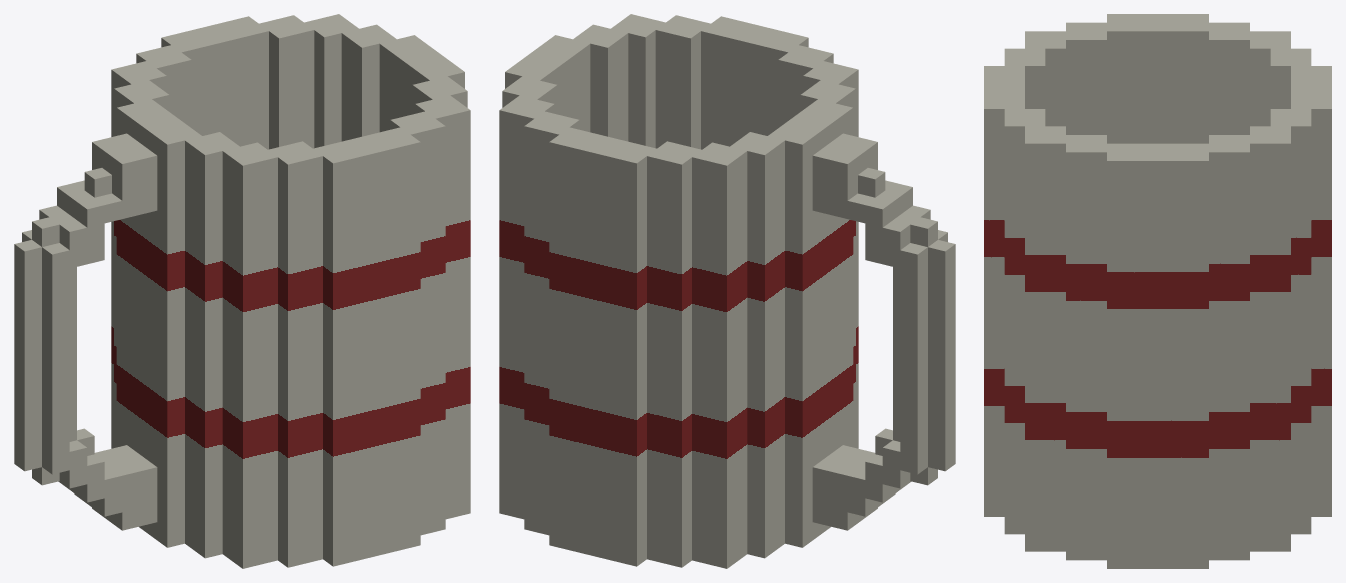
Rendered from kubek.dae.
3 views of the same model, side by side, from view 1: azimuth 30°, elevation 25°; view 2: azimuth 150°, elevation 25°; view 3: azimuth 270°, elevation 25° (orthographic).
Visible parts, largest first — view 1: Content; view 2: Content; view 3: Content.
Part boxes in pixels (bbox=[...]): Content: bbox=[14, 14, 470, 568]; Content: bbox=[499, 14, 955, 568]; Content: bbox=[984, 14, 1331, 568].
Size of the model in its own units: 24 by 22 by 17.
1 material, 1 textured.
